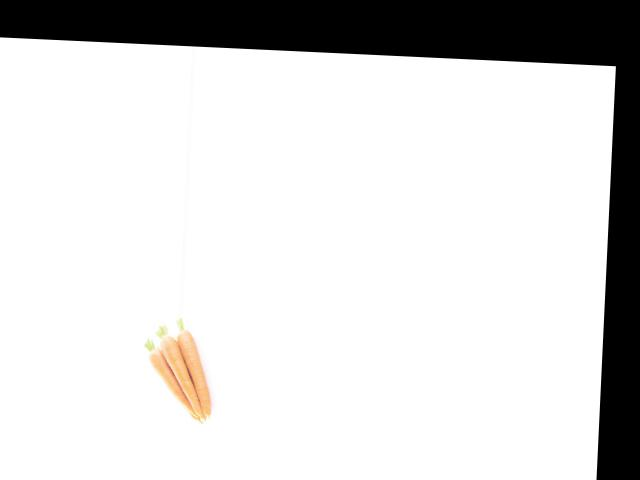carrot: (171, 332, 213, 415)
